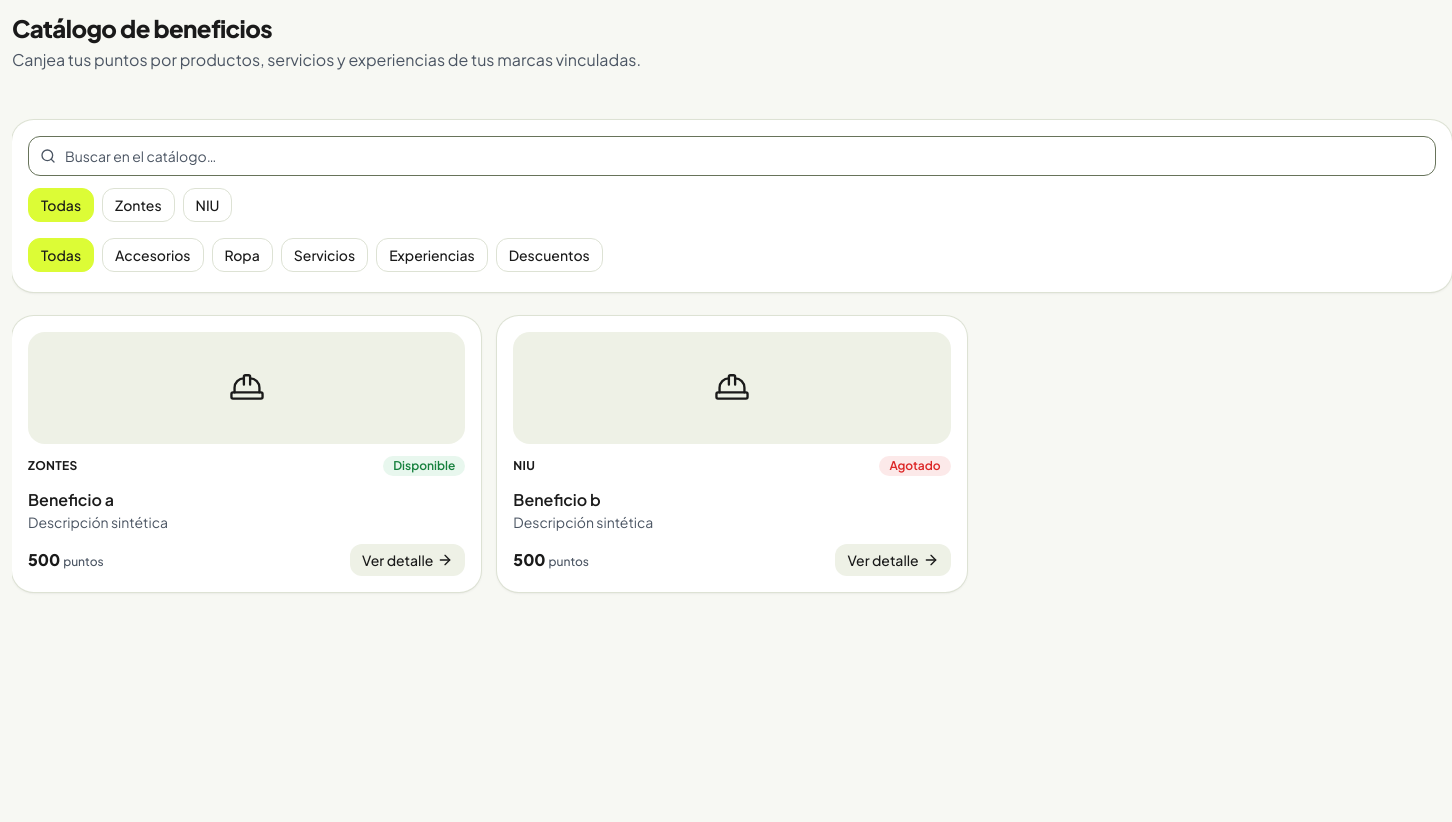
Test case: F3-FE-01 · Catálogo (UI-05, C06) › lista beneficios con su disponibilidad y filtra por marca vinculada
This screenshot has width=1452, height=822.
Expected: the heading "Beneficio a" is shown, x1=28 y1=489 x2=114 y2=510
Expected: the text "Agotado" is shown, x1=879 y1=456 x2=951 y2=476
Step 1. Click the button "NIU" → x=207, y=205, box x1=182 y1=188 x2=232 y2=222
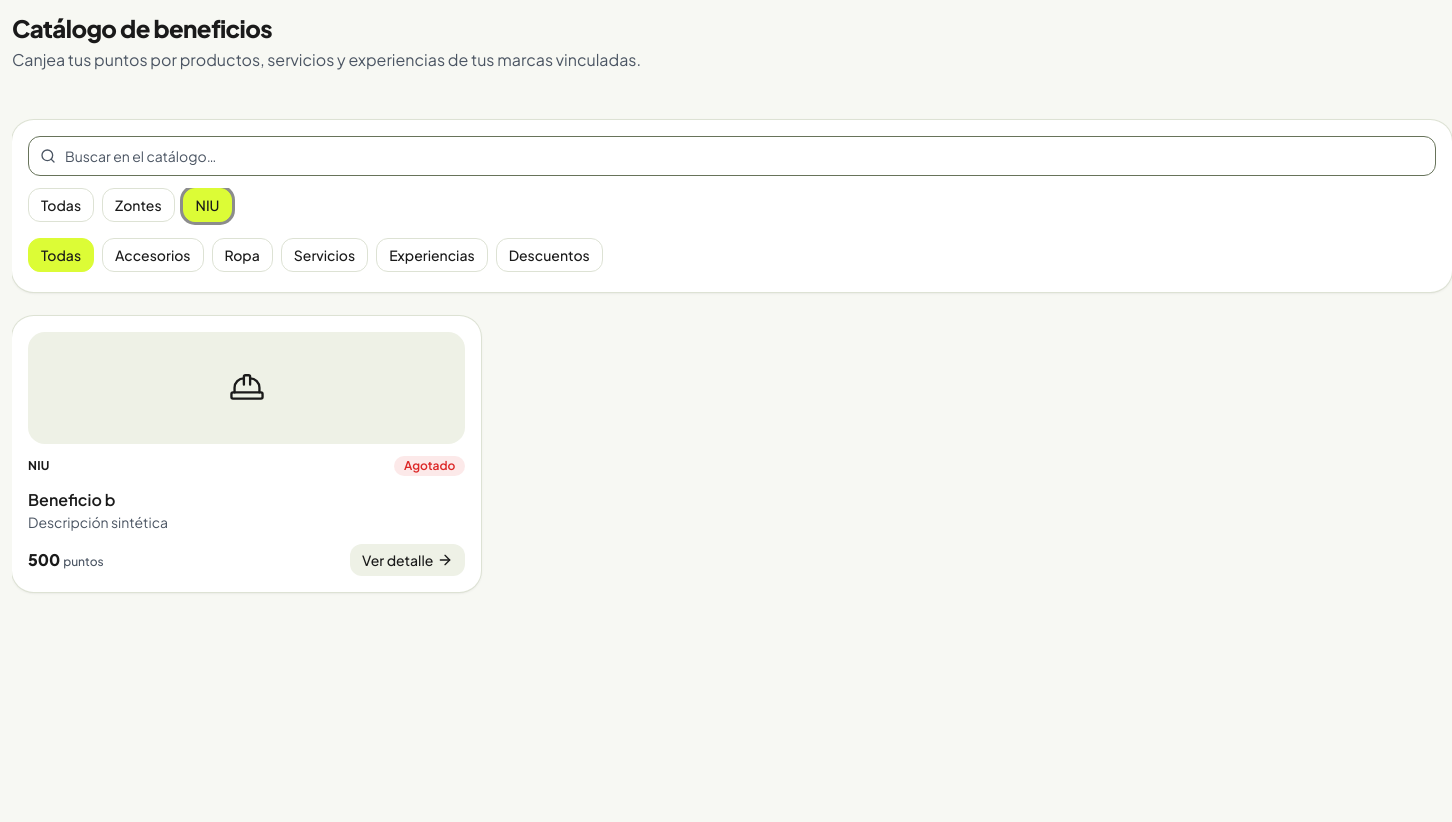
Expected: the heading "Beneficio a" is gone
